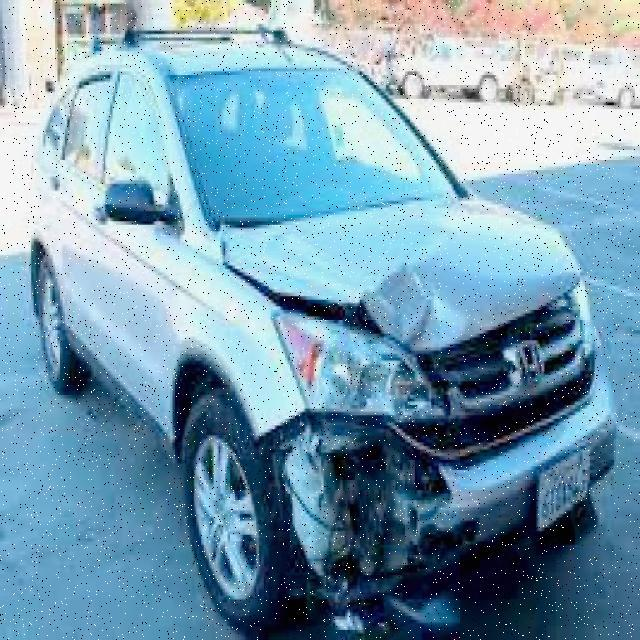car damage: (227, 224, 476, 617)
